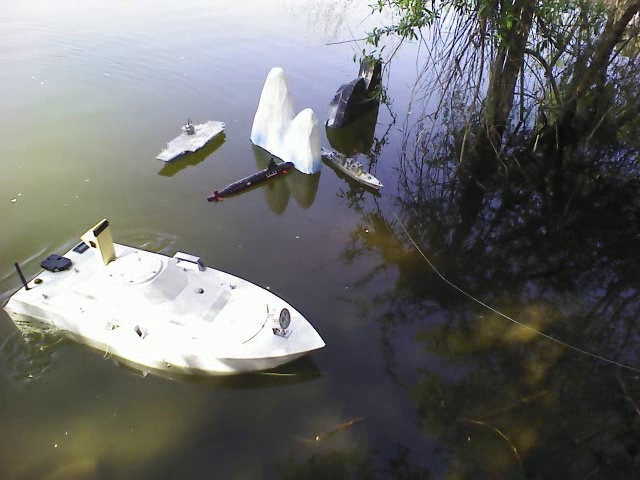aircraft_carrier: (159, 118, 226, 168)
boat: (10, 232, 331, 380)
iceberg: (247, 66, 328, 169)
rock: (326, 52, 389, 142)
submarine: (209, 159, 295, 202)
warship: (321, 142, 388, 197)
